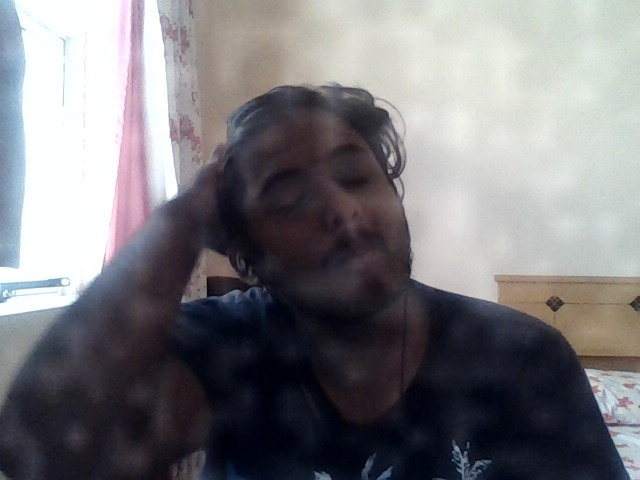thumbsup: (505, 158, 603, 328)
